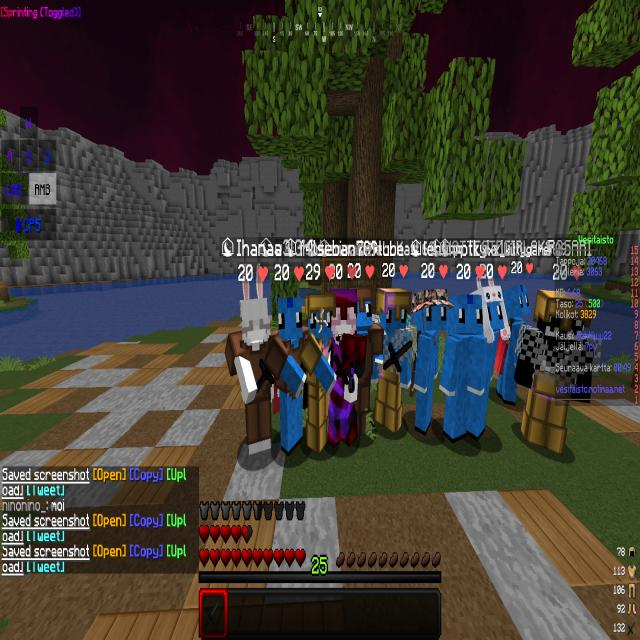Player: (515, 286, 593, 459), (227, 296, 274, 454), (270, 294, 307, 455), (376, 287, 412, 433), (412, 284, 444, 434), (330, 288, 359, 453), (306, 293, 332, 453), (503, 278, 529, 405)
